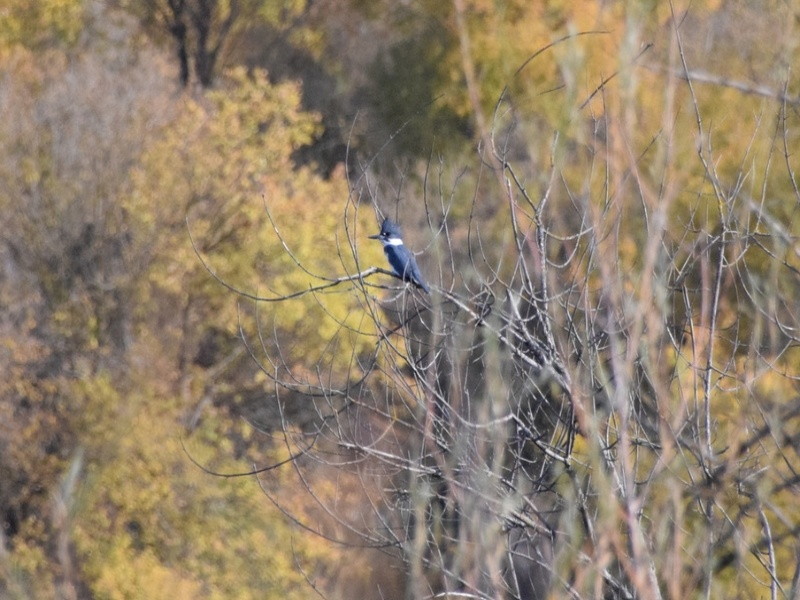kingfisher: (367, 216, 428, 294)
